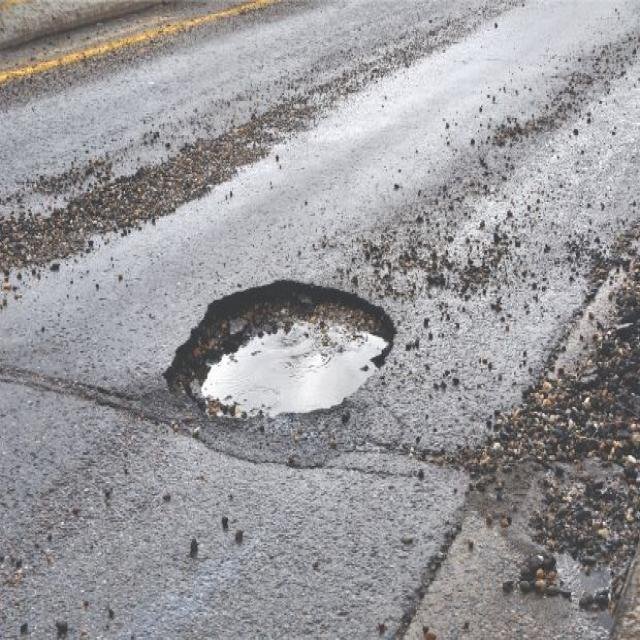pothole: (156, 274, 397, 426)
